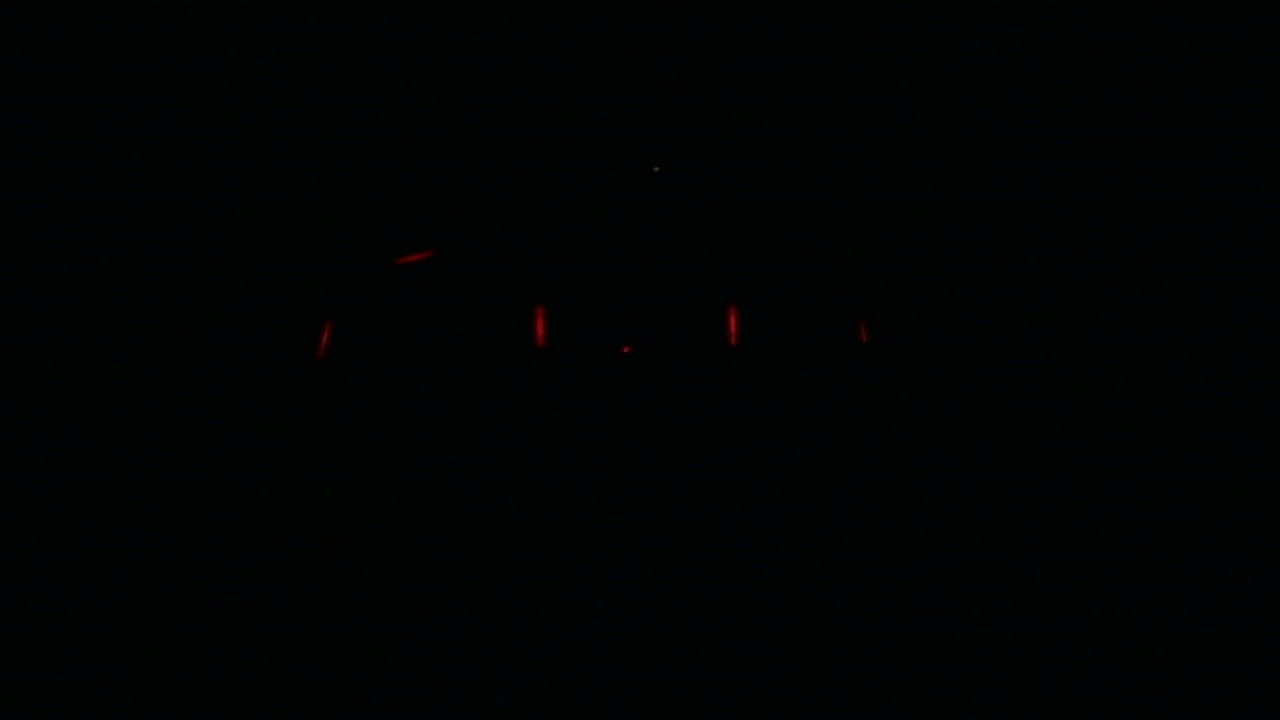lamp: (530, 301, 549, 346), (726, 302, 735, 349)
pair2: (530, 303, 739, 350)
